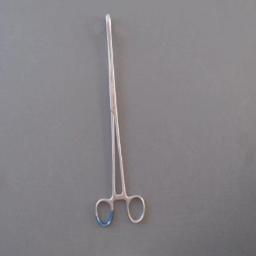Sponge Forceps: (92, 11, 150, 231)
